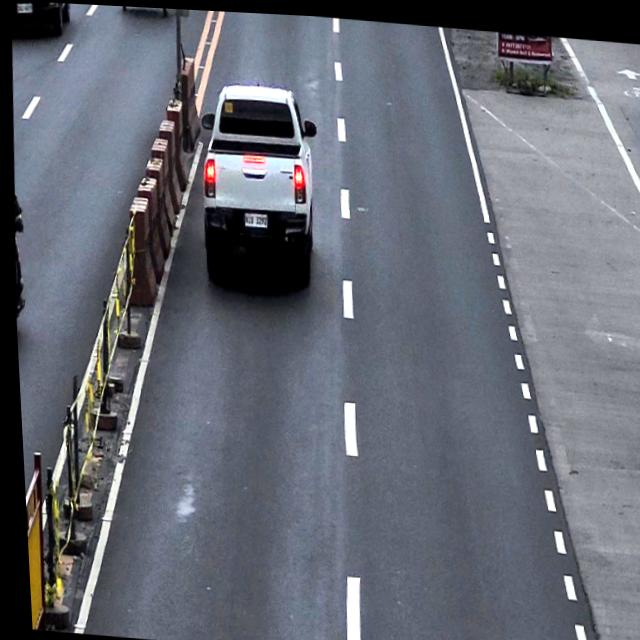Car: (191, 75, 323, 286), (9, 0, 73, 44)
License-Plate: (240, 206, 266, 226), (16, 1, 33, 14)
Motorcycle: (8, 192, 26, 319)
